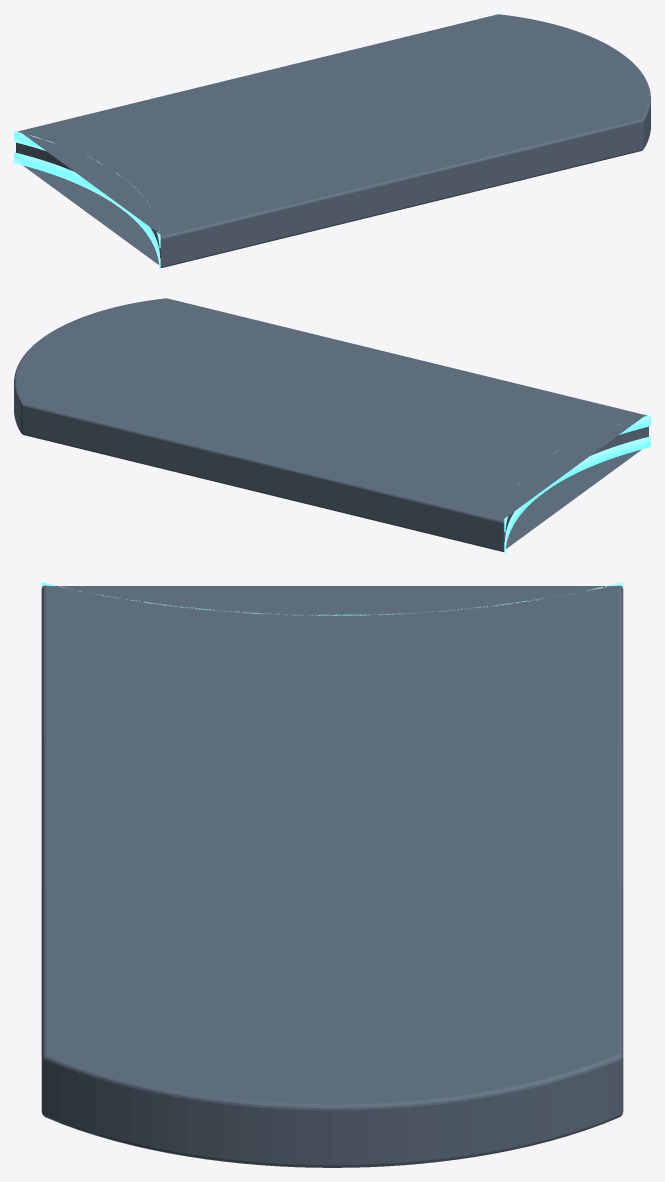
Rendered from SciFiPlatform.fbx.
The picture shows the model from 3 angles, top to bottom: view 1: azimuth 30°, elevation 25°; view 2: azimuth 150°, elevation 25°; view 3: azimuth 270°, elevation 25°; orthographic projection. The views are drawn at different scales.
Parts seen in each view (by area): view 1: Platform, Magnetic_Edge; view 2: Platform, Magnetic_Edge; view 3: Platform.
Boxes of the visible parts, x1=… form: Platform: x1=16, y1=14, x2=650, y2=267; Magnetic_Edge: x1=14, y1=131, x2=160, y2=269; Platform: x1=14, y1=298, x2=648, y2=551; Magnetic_Edge: x1=504, y1=415, x2=650, y2=553; Platform: x1=41, y1=585, x2=623, y2=1167.
Bounding box in the file's own units: 1066 × 60 × 500.
